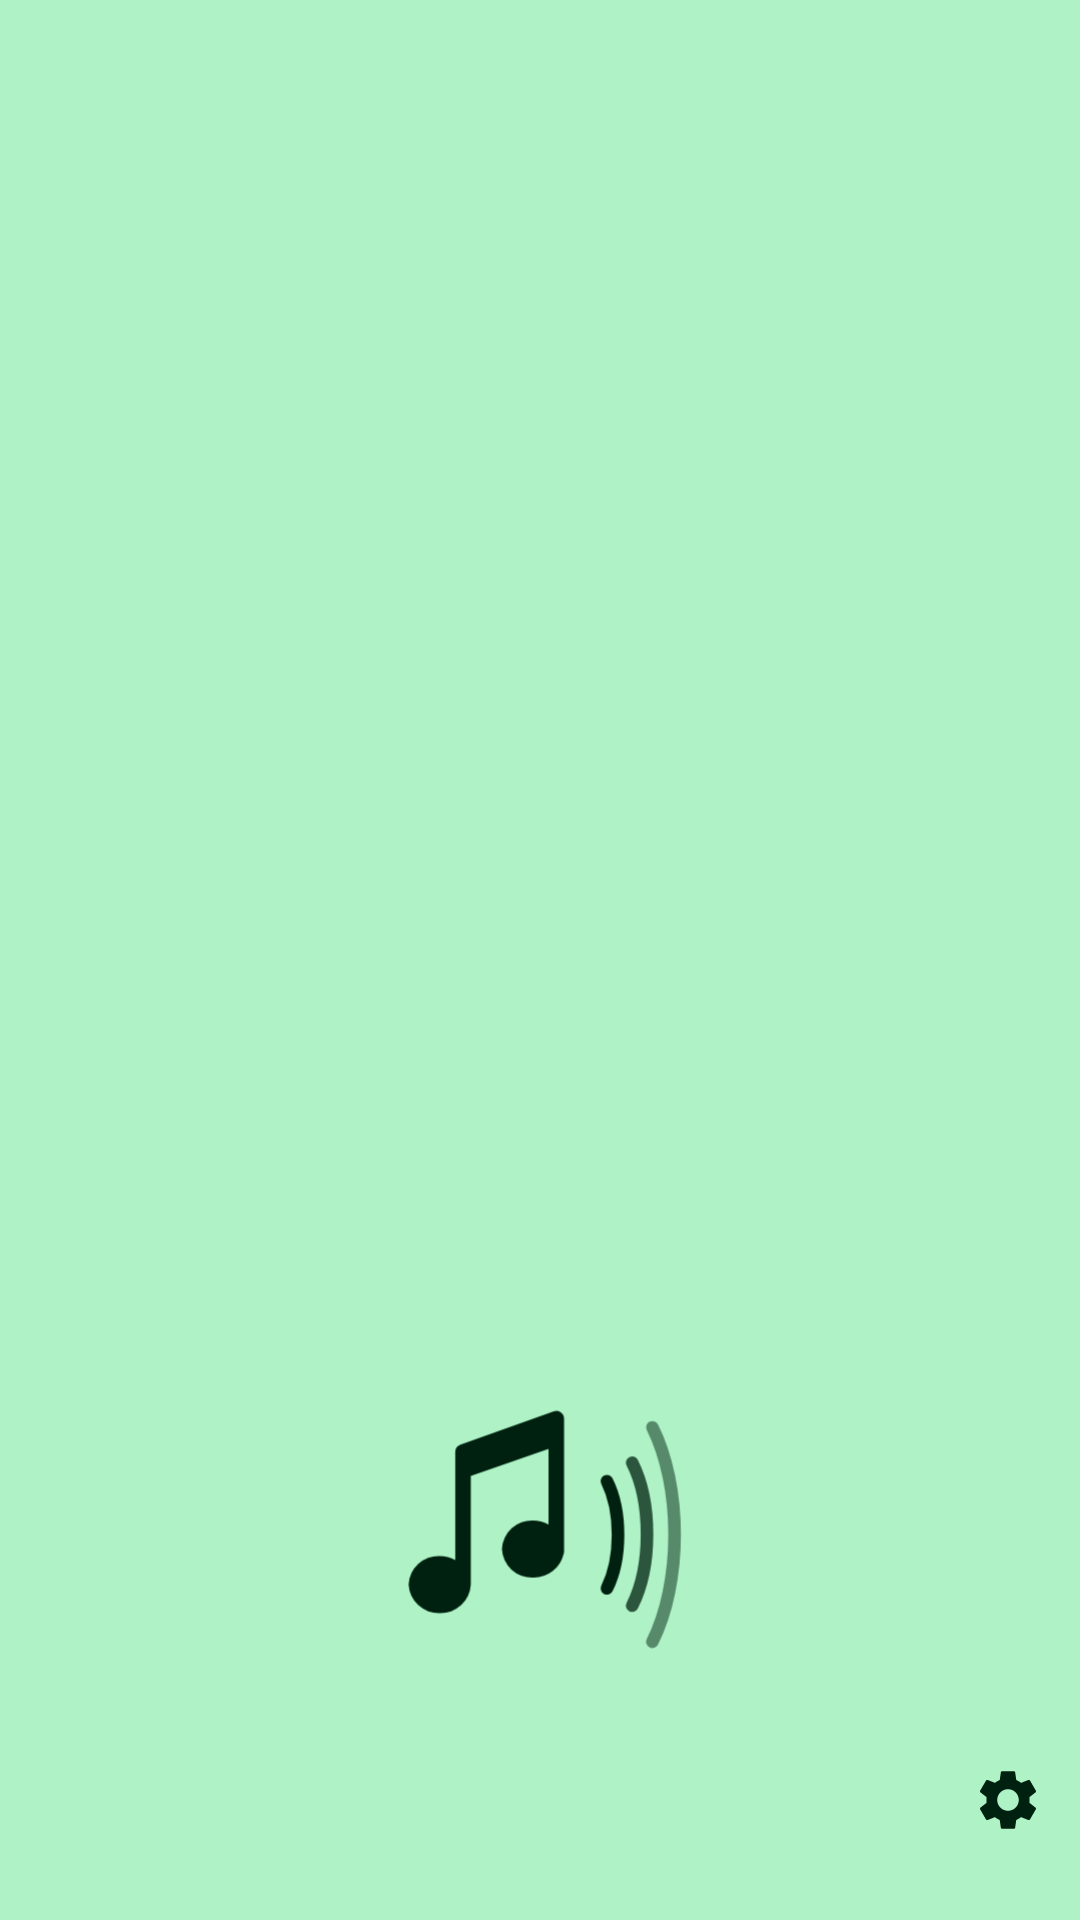

Icons on this 1080w x 1920h Android screen, each with its box as region(x1, y1, x2, y2):
settings: region(980, 1771, 1036, 1829)
